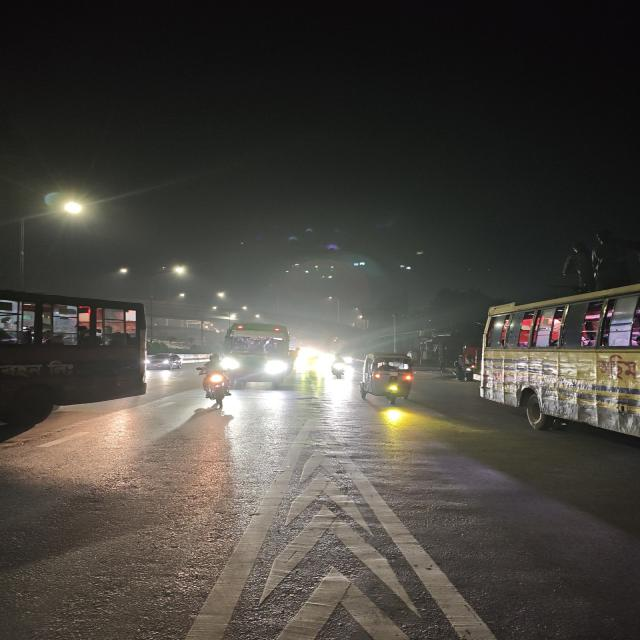bus: (477, 303, 640, 444), (0, 289, 147, 425), (225, 321, 289, 394)
cng: (358, 348, 426, 408)
motorcycle: (191, 354, 235, 423), (329, 353, 350, 382)
